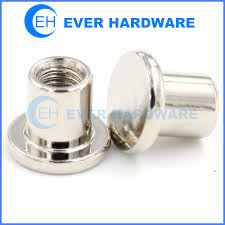Thread: (34, 59, 88, 90)
